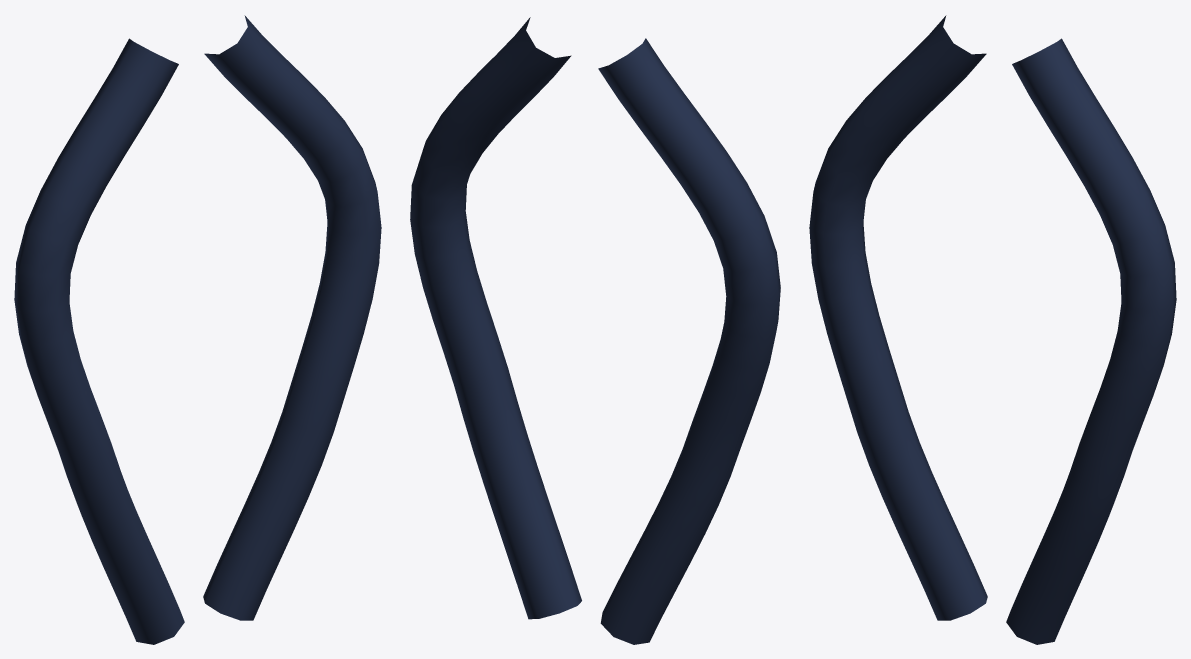
File: shawl-lapel.glb
The picture shows the model from 3 angles, left to right: view 1: azimuth 30°, elevation 25°; view 2: azimuth 150°, elevation 25°; view 3: azimuth 330°, elevation 25°; orthographic projection.
Parts seen in each view (by area): view 1: Lapel_Right_Shawl, Lapel_Left_Shawl; view 2: Lapel_Left_Shawl, Lapel_Right_Shawl; view 3: Lapel_Left_Shawl, Lapel_Right_Shawl.
Part boxes in pixels (box(x1,y1,x2,y2)): Lapel_Right_Shawl: box(203, 15, 381, 620); Lapel_Left_Shawl: box(14, 38, 184, 644); Lapel_Left_Shawl: box(598, 38, 780, 644); Lapel_Right_Shawl: box(410, 17, 581, 619); Lapel_Left_Shawl: box(809, 15, 987, 620); Lapel_Right_Shawl: box(1006, 38, 1176, 644).
Bounding box in the file's own units: 0.5163 × 0.8134 × 0.1001.
